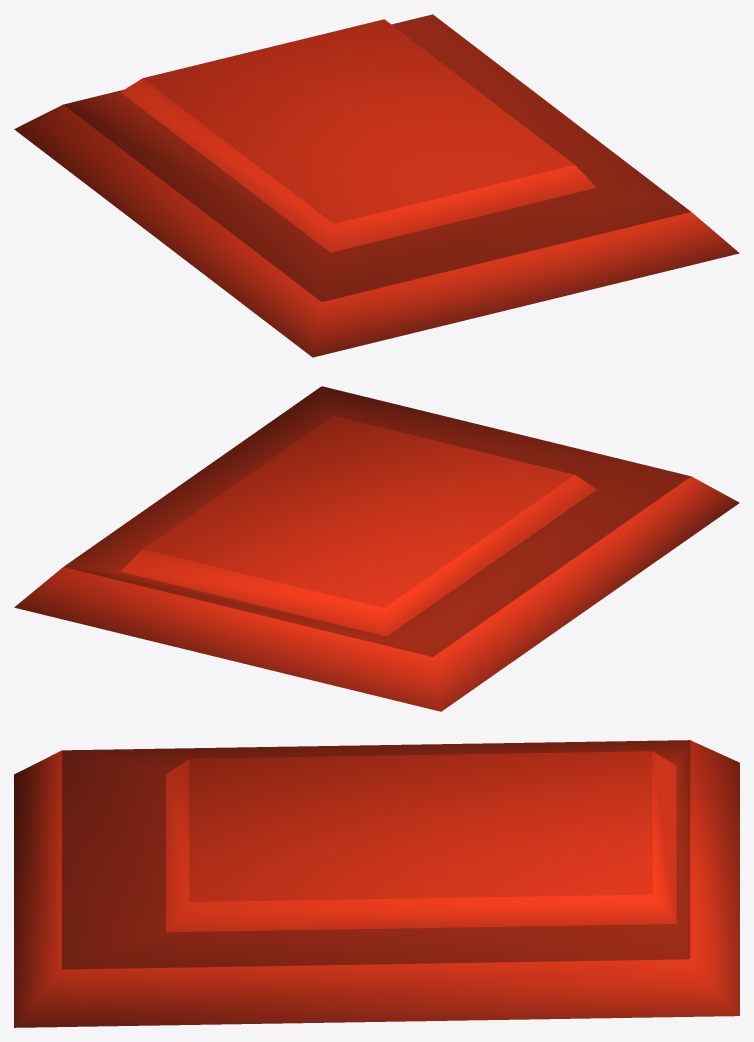
Rendered from Rubbish Bin Lid Red.glb.
3 renders of one model, top to bottom at view 1: azimuth 30°, elevation 25°; view 2: azimuth 150°, elevation 25°; view 3: azimuth 270°, elevation 25°, orthographic. The views are drawn at different scales.
Visible parts, largest first — view 1: Rubbish Bin Lid Red; view 2: Rubbish Bin Lid Red; view 3: Rubbish Bin Lid Red.
Part boxes in pixels (box(x1,y1,x2,y2)): Rubbish Bin Lid Red: box(14, 14, 739, 357); Rubbish Bin Lid Red: box(14, 386, 739, 711); Rubbish Bin Lid Red: box(14, 740, 739, 1027).
Bounding box in the file's own units: 1.13 × 0.1635 × 1.37.
1 material, 1 textured.
